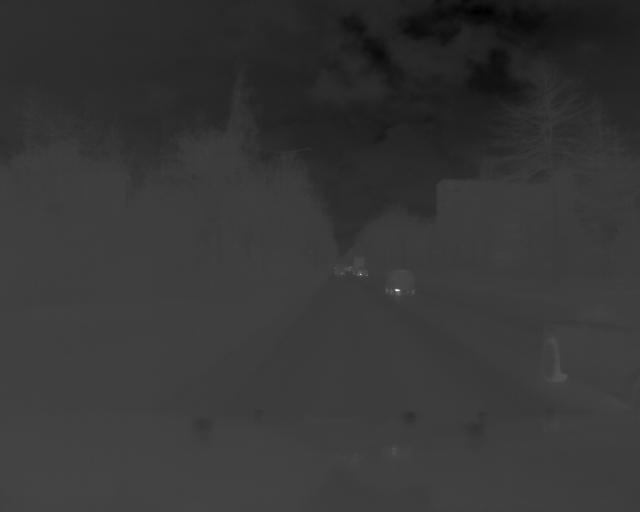car: (538, 283, 640, 403), (380, 264, 417, 300)
